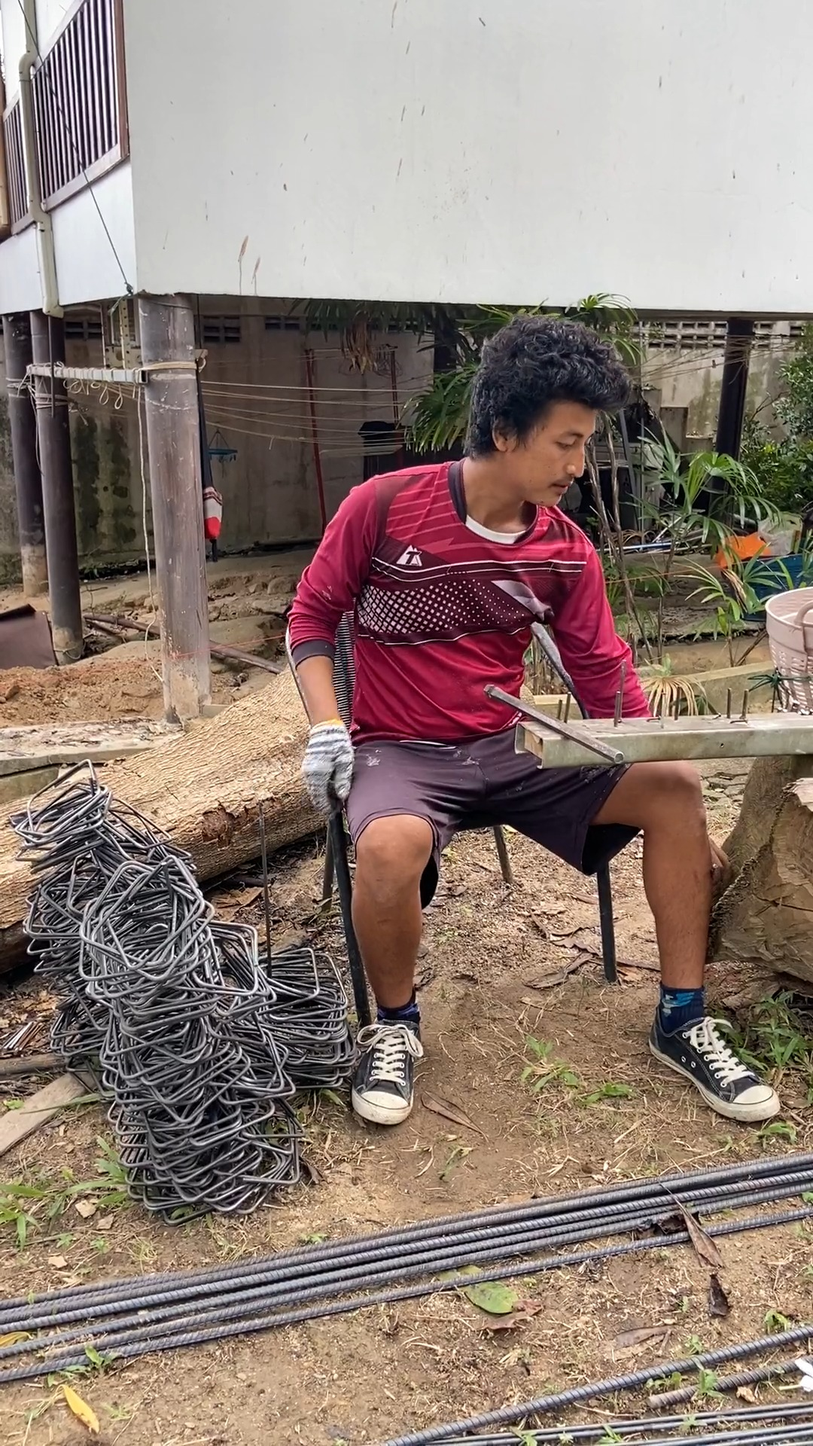gloves: (296, 713, 365, 806)
